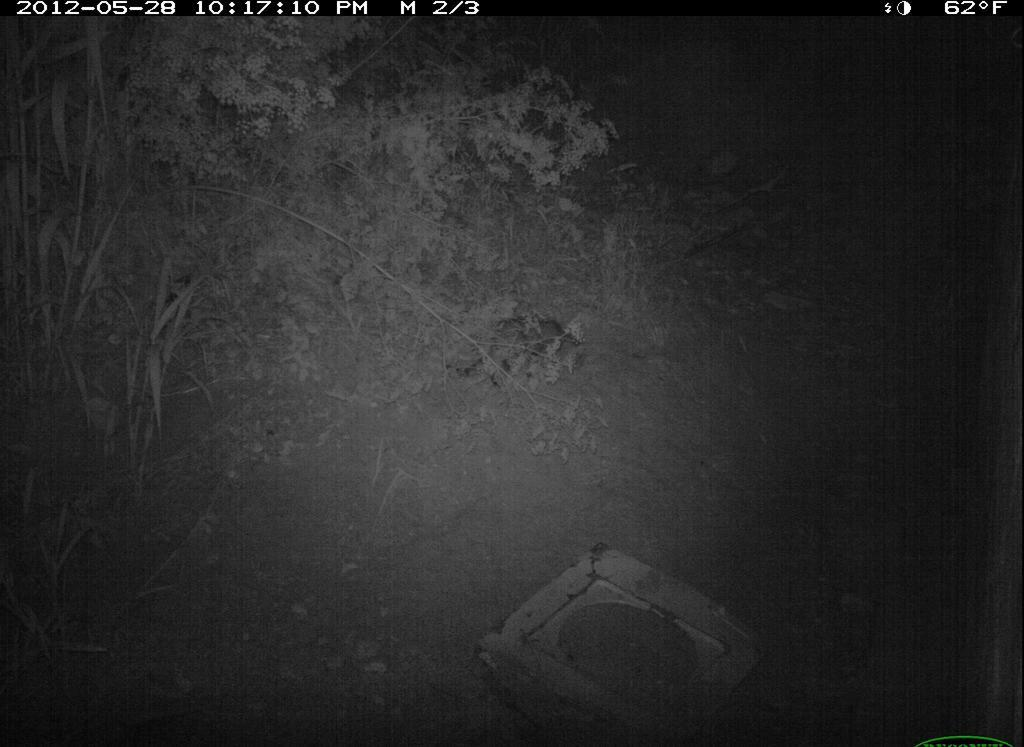cat: (437, 305, 591, 386)
